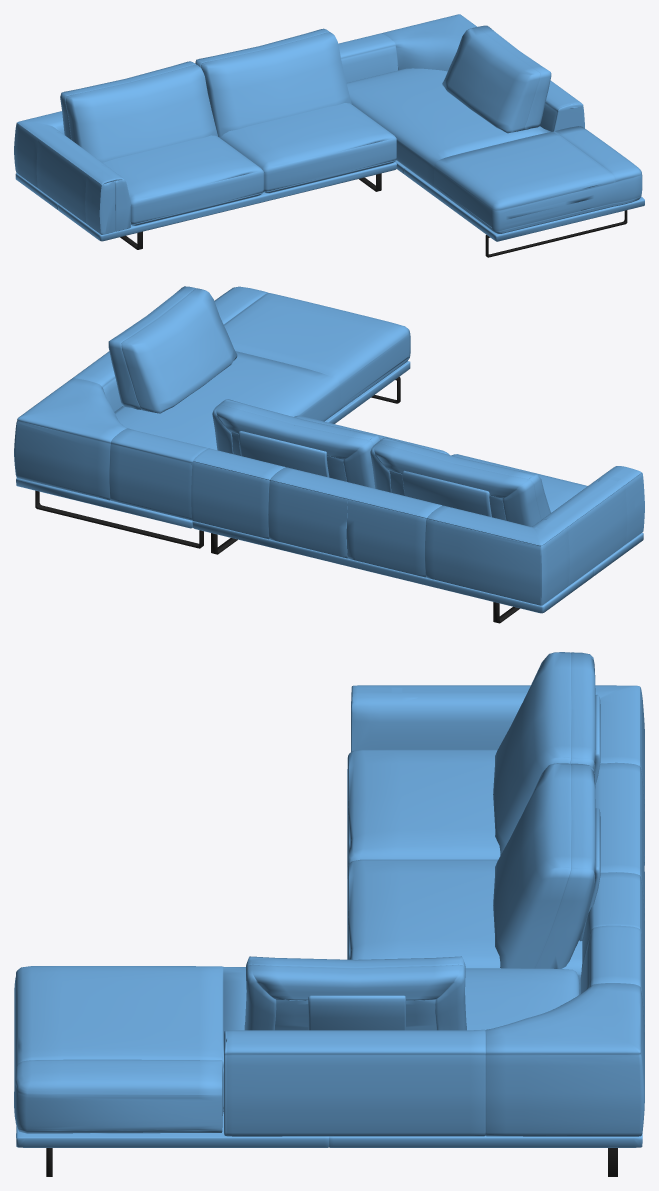
Rendered from Sofa.FBX.
3 renders of one model, top to bottom at view 1: azimuth 30°, elevation 25°; view 2: azimuth 150°, elevation 25°; view 3: azimuth 270°, elevation 25°, orthographic. The views are drawn at different scales.
Parts seen in each view (by area): view 1: Group_040, Sofa_legs; view 2: Group_040, Group_014, Sofa_legs; view 3: Group_040.
Part boxes in pixels (<box>): Group_040: <box>14,14,644,241</box>; Sofa_legs: <box>120,173,627,257</box>; Group_040: <box>14,286,644,613</box>; Group_014: <box>35,490,203,548</box>; Sofa_legs: <box>211,377,519,623</box>; Group_040: <box>14,652,644,1147</box>.
Bounding box in the file's own units: 317 × 76.74 × 229.
